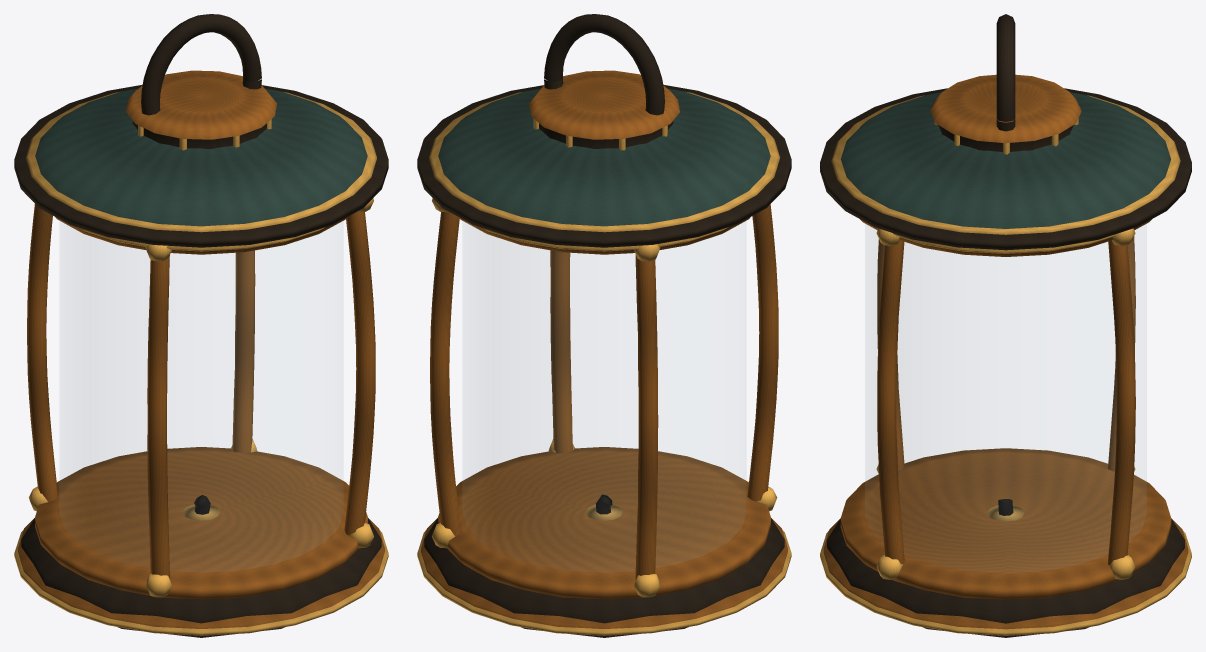
Rendered from lantern.glb.
3 views of the same model, side by side, from view 1: azimuth 30°, elevation 25°; view 2: azimuth 150°, elevation 25°; view 3: azimuth 270°, elevation 25° (orthographic).
Visible parts, largest first — view 1: Chamber lower sill, Patinated canopy, Weighted hexagonal foot, Canopy lip, Vent crown, Bowed cage rib 0, Bowed cage rib 1, Bowed cage rib 2, Canopy brass rim, Forged carrying loop, Bowed cage rib 3, Foot brass shoulder (+4 smaller); view 2: Chamber lower sill, Patinated canopy, Weighted hexagonal foot, Canopy lip, Vent crown, Bowed cage rib 3, Bowed cage rib 2, Bowed cage rib 1, Canopy brass rim, Bowed cage rib 0, Forged carrying loop, Foot brass shoulder (+4 smaller); view 3: Chamber lower sill, Patinated canopy, Weighted hexagonal foot, Canopy lip, Vent crown, Bowed cage rib 0, Bowed cage rib 3, Canopy brass rim, Foot brass shoulder, Foot polished edge, Forged carrying loop, Bowed cage rib 2 (+4 smaller).
Boxes of the visible parts, x1=… form: Chamber lower sill: x1=35, y1=447, x2=367, y2=599; Patinated canopy: x1=35, y1=88, x2=367, y2=226; Weighted hexagonal foot: x1=21, y1=518, x2=381, y2=637; Canopy lip: x1=14, y1=84, x2=388, y2=247; Vent crown: x1=126, y1=70, x2=276, y2=139; Bowed cage rib 0: x1=344, y1=212, x2=375, y2=535; Bowed cage rib 1: x1=147, y1=255, x2=169, y2=578; Bowed cage rib 2: x1=27, y1=204, x2=58, y2=501; Canopy brass rim: x1=26, y1=91, x2=376, y2=232; Forged carrying loop: x1=141, y1=14, x2=261, y2=115; Bowed cage rib 3: x1=232, y1=250, x2=255, y2=453; Foot brass shoulder: x1=18, y1=518, x2=384, y2=628; Chamber lower sill: x1=438, y1=447, x2=770, y2=599; Patinated canopy: x1=438, y1=88, x2=770, y2=226; Weighted hexagonal foot: x1=424, y1=518, x2=784, y2=637; Canopy lip: x1=417, y1=84, x2=791, y2=247; Vent crown: x1=529, y1=70, x2=679, y2=139; Bowed cage rib 3: x1=430, y1=212, x2=461, y2=536; Bowed cage rib 2: x1=635, y1=254, x2=658, y2=579; Bowed cage rib 1: x1=747, y1=204, x2=778, y2=501; Canopy brass rim: x1=429, y1=91, x2=779, y2=232; Bowed cage rib 0: x1=550, y1=250, x2=572, y2=453; Forged carrying loop: x1=544, y1=14, x2=664, y2=115; Foot brass shoulder: x1=421, y1=518, x2=787, y2=628; Chamber lower sill: x1=840, y1=448, x2=1171, y2=599; Patinated canopy: x1=841, y1=92, x2=1170, y2=228; Weighted hexagonal foot: x1=827, y1=519, x2=1184, y2=637; Canopy lip: x1=820, y1=88, x2=1191, y2=250; Vent crown: x1=930, y1=74, x2=1081, y2=143; Bowed cage rib 0: x1=877, y1=240, x2=904, y2=564; Bowed cage rib 3: x1=1108, y1=240, x2=1135, y2=564; Canopy brass rim: x1=831, y1=95, x2=1180, y2=234; Foot brass shoulder: x1=823, y1=518, x2=1188, y2=629; Foot polished edge: x1=820, y1=531, x2=1191, y2=635; Forged carrying loop: x1=996, y1=14, x2=1015, y2=131; Bowed cage rib 2: x1=1108, y1=236, x2=1135, y2=471.
Bounding box in the file's own units: 1080 × 1788 × 1080.
6 materials, 5 textured.
